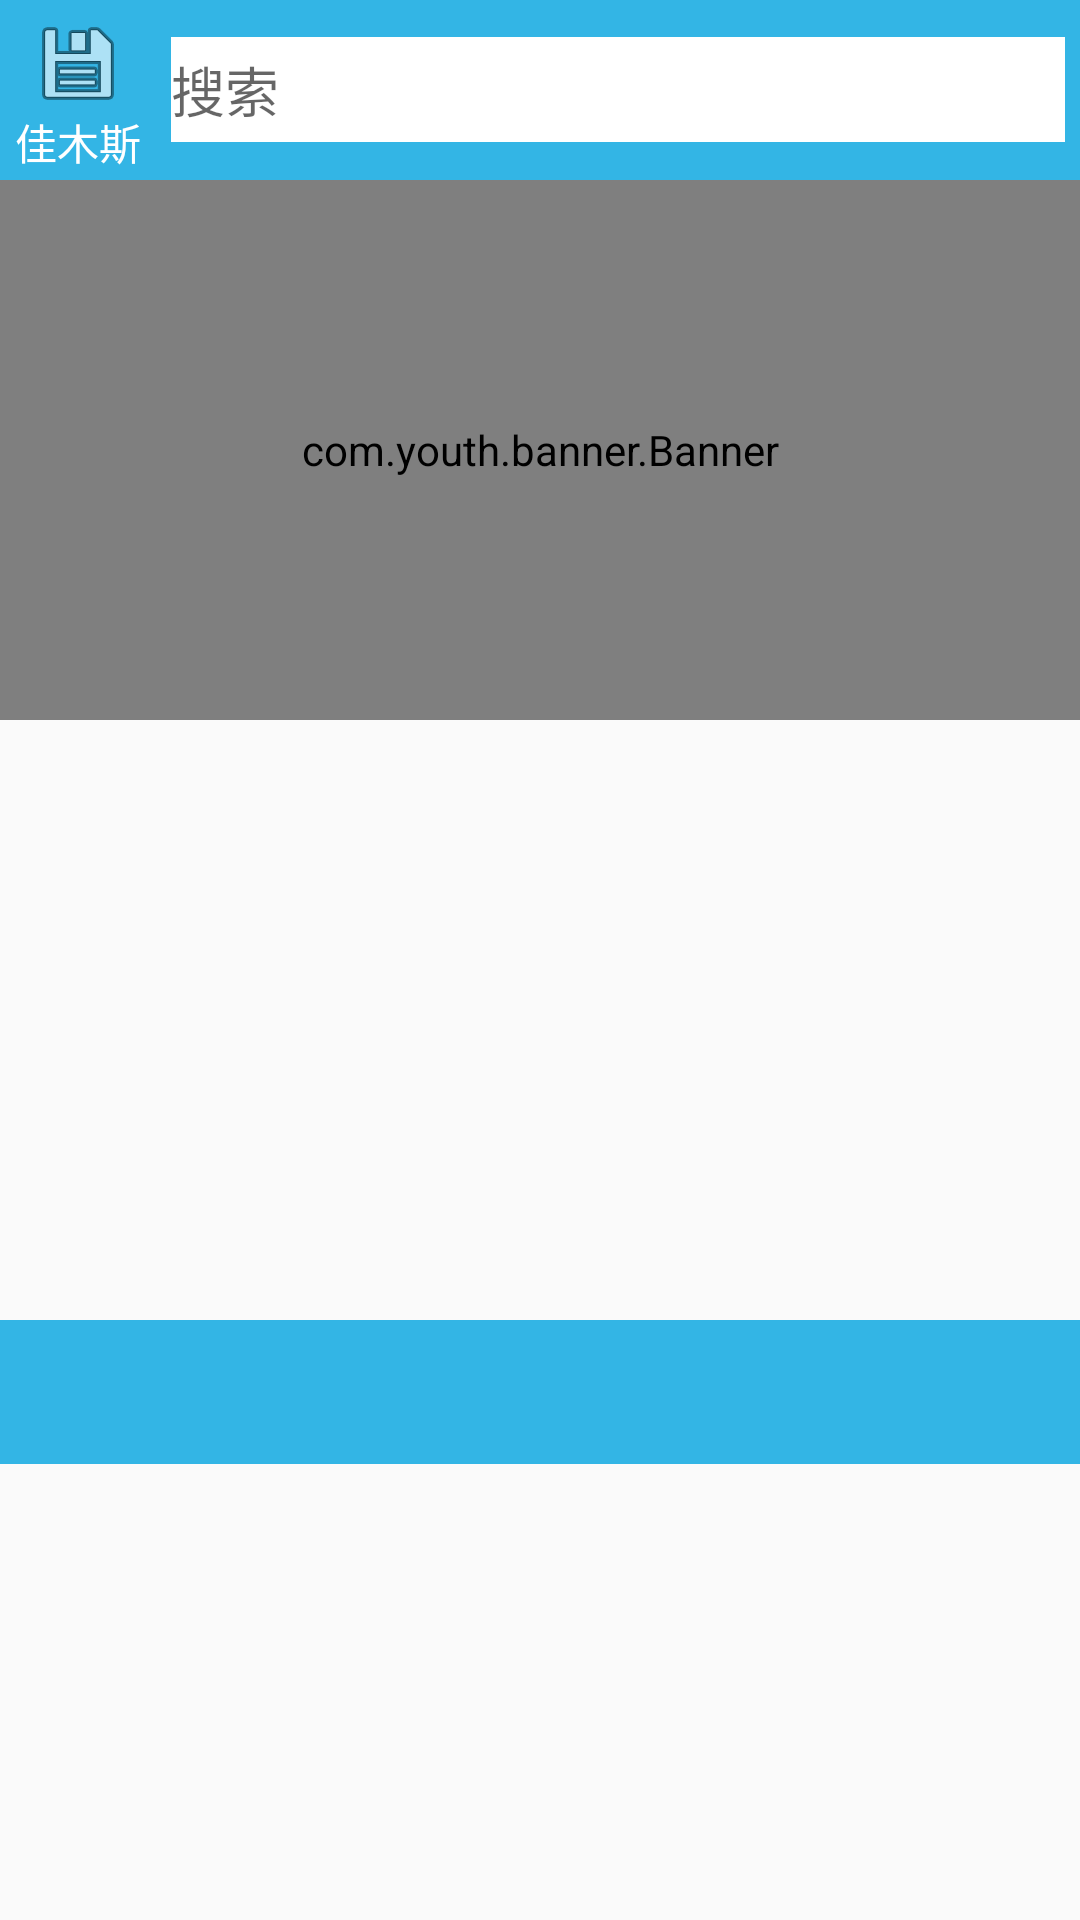

Named icons in this screenshot (1080x1920) and their centers, (x,y):
save: (78,63)
